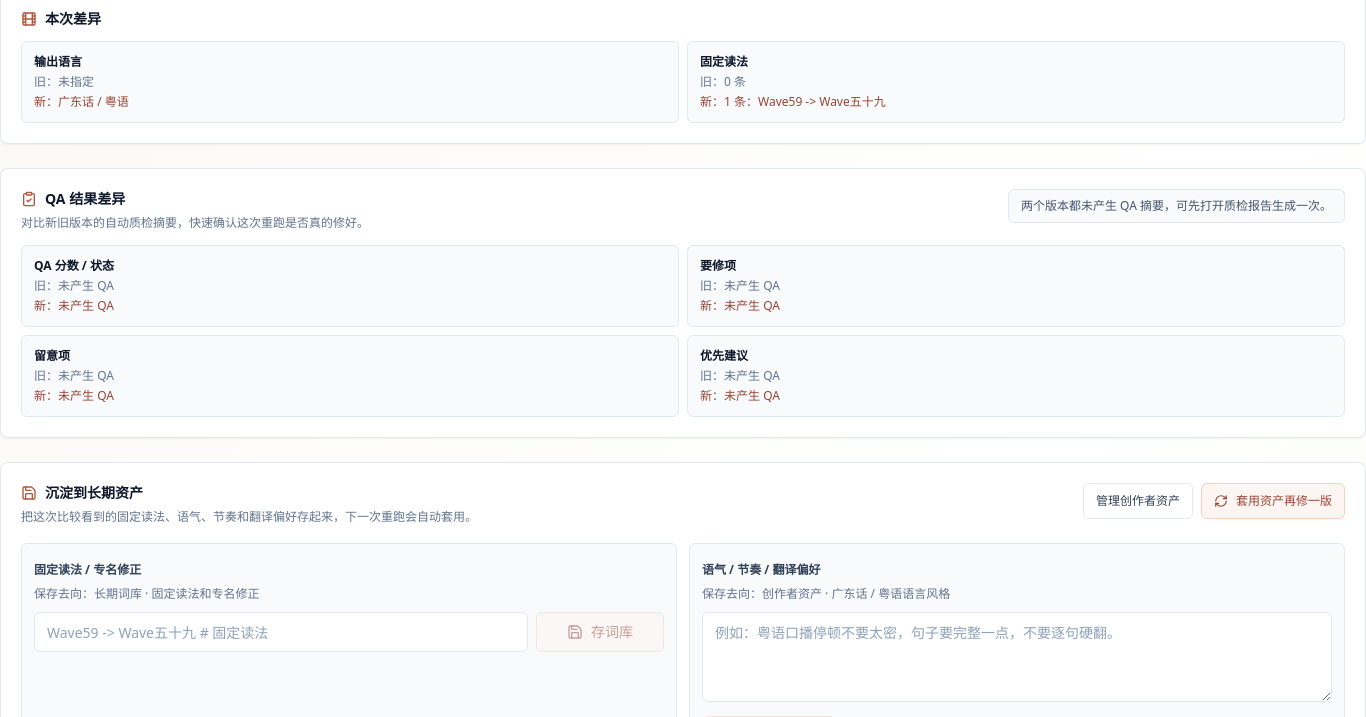
JobCompareClient asset rows › previews and confirms the fixed reading saved from compare
Type "99年 -> 九九年 # 年份读法" into the field with placeholder "Wave59 -> Wave五十九 # 固定读法". click: (281, 632)
box: [34,612,528,652]
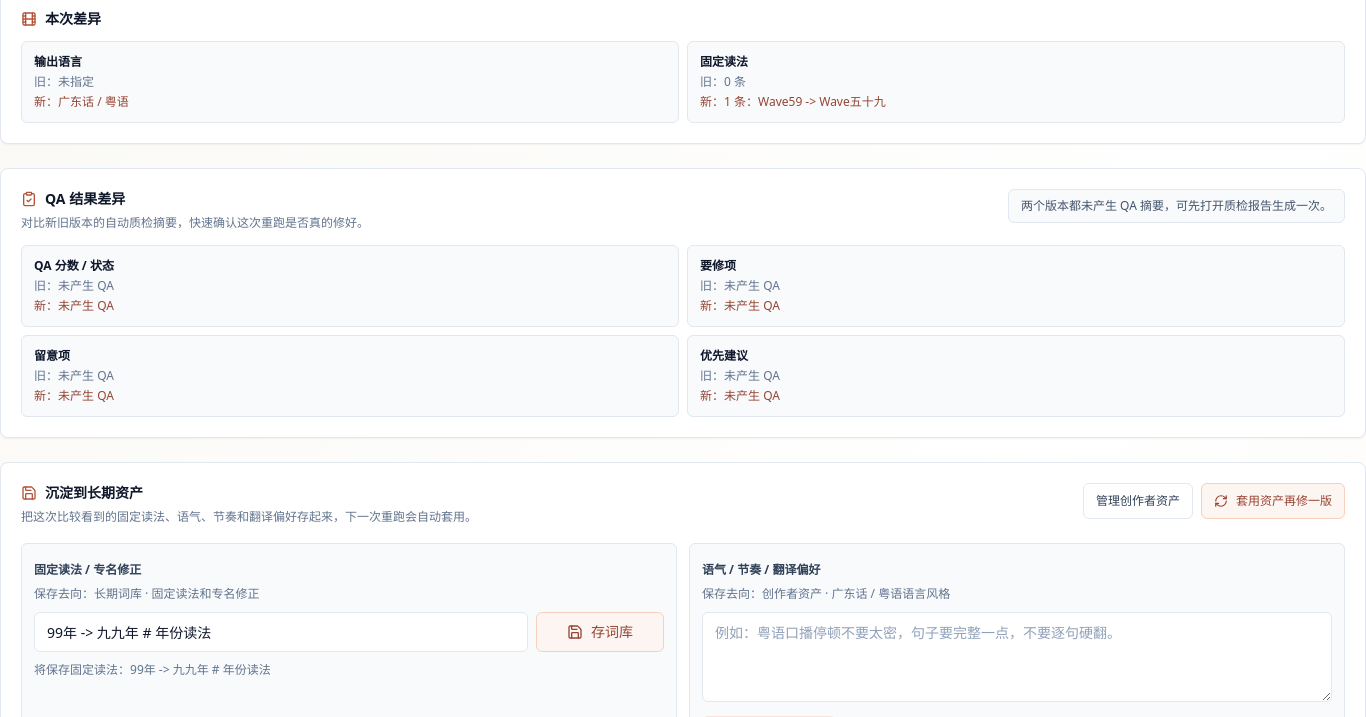
Expected: the text "保存去向：长期词库 · 固定读法和专名修正" is shown, [34,585,260,602]
Now the text "将保存固定读法：99年 -> 九九年 # 年份读法" is shown, box [34,661,271,678]
Click the button "存词库". click: (600, 632)
box: [536,612,664,652]
(page scrolled)
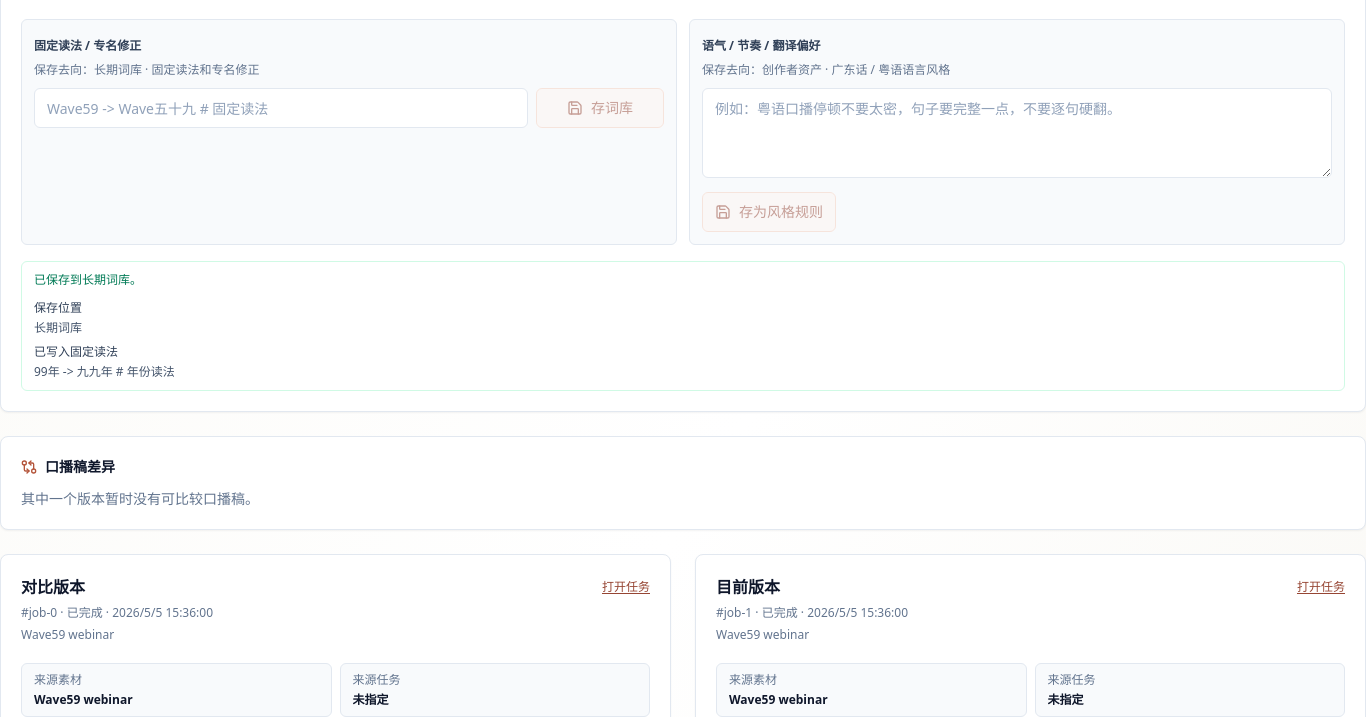
Now the text "已保存到长期词库。" is shown, box [34,271,142,288]
Now the text "保存位置" is shown, box [34,299,82,316]
Now the text "长期词库" is shown, box [34,319,82,336]
